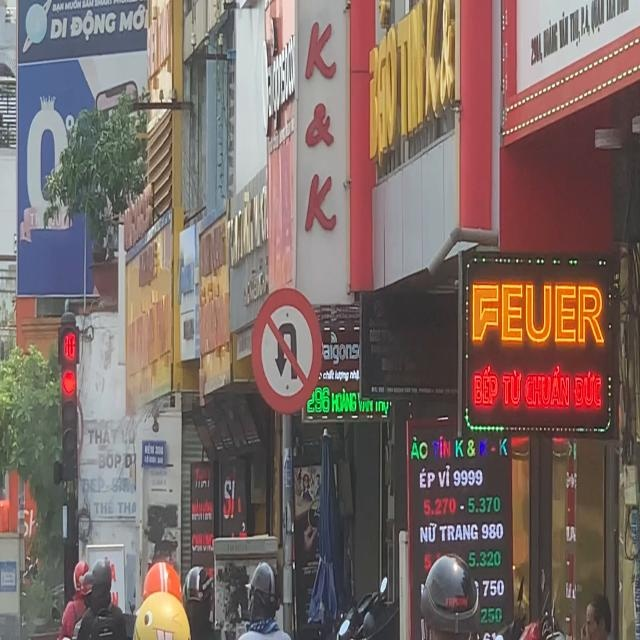bien_cam: (251, 286, 322, 416)
